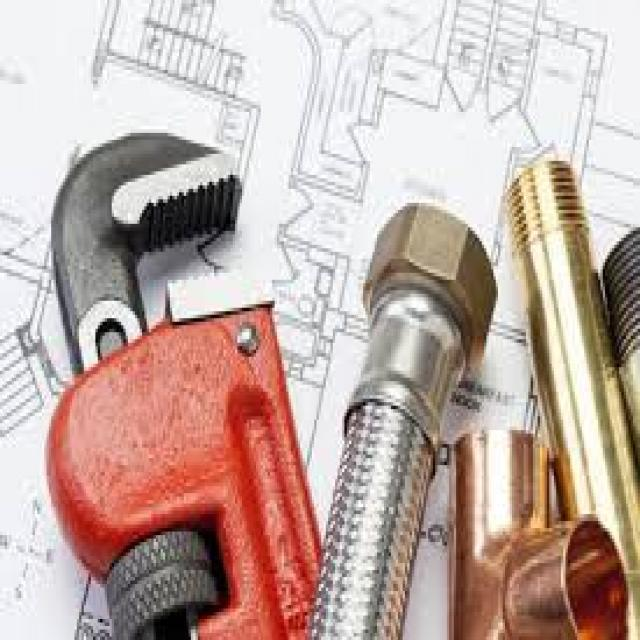wrench: (42, 116, 320, 640)
